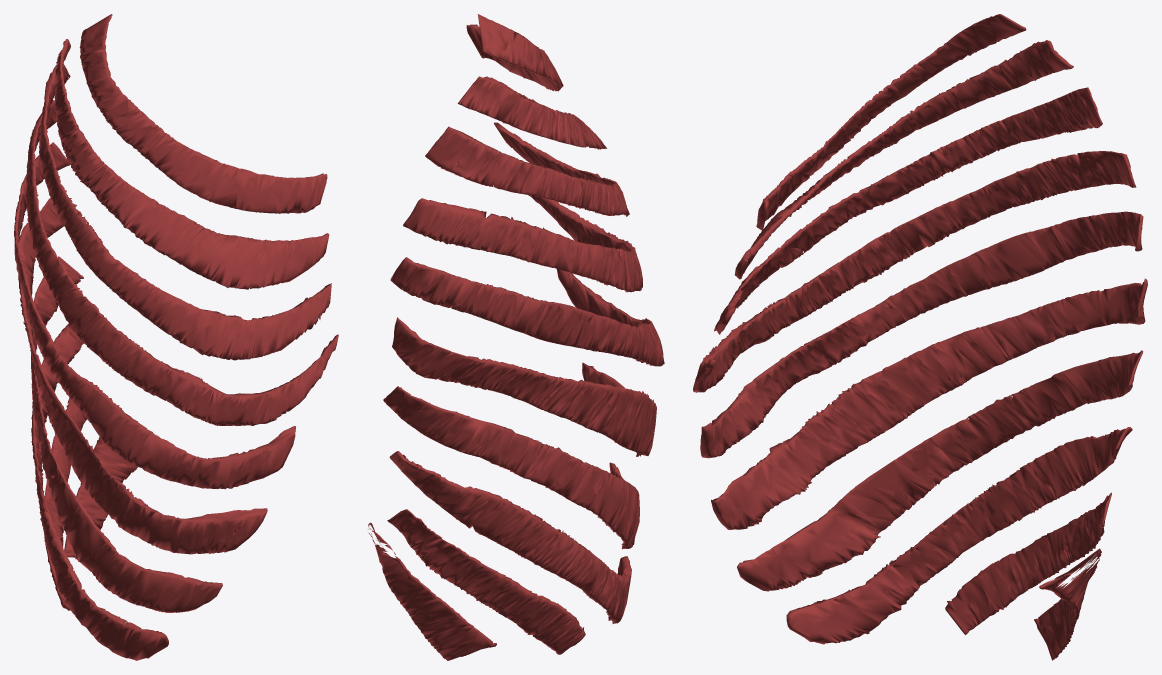
Rendered from internal-intercostal-muscles-r.glb.
3 views of the same model, side by side, from view 1: azimuth 30°, elevation 25°; view 2: azimuth 150°, elevation 25°; view 3: azimuth 270°, elevation 25° (orthographic). The views are drawn at different scales.
Visible parts, largest first — view 1: Internal intercostal muscles.r; view 2: Internal intercostal muscles.r; view 3: Internal intercostal muscles.r.
Part boxes in pixels (<box>): Internal intercostal muscles.r: <box>14,14,338,660</box>; Internal intercostal muscles.r: <box>368,14,664,660</box>; Internal intercostal muscles.r: <box>693,14,1147,660</box>.
Bounding box in the file's own units: 0.1257 × 0.33 × 0.2061.
